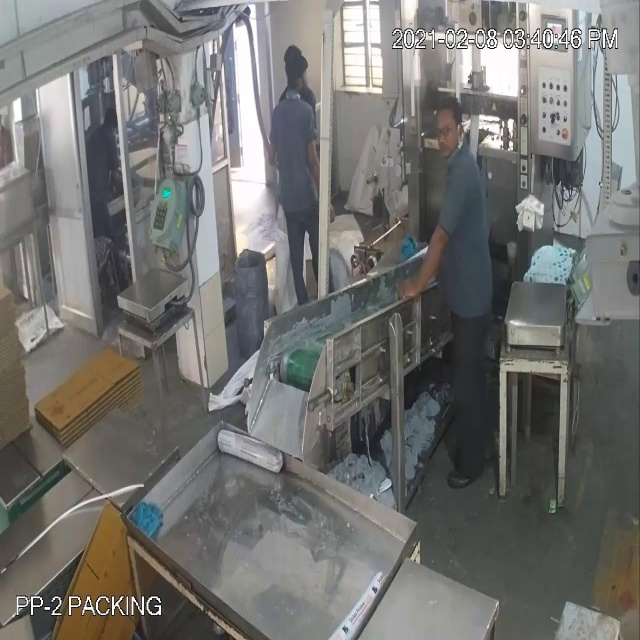Sin_guantes: (388, 209, 460, 319)
